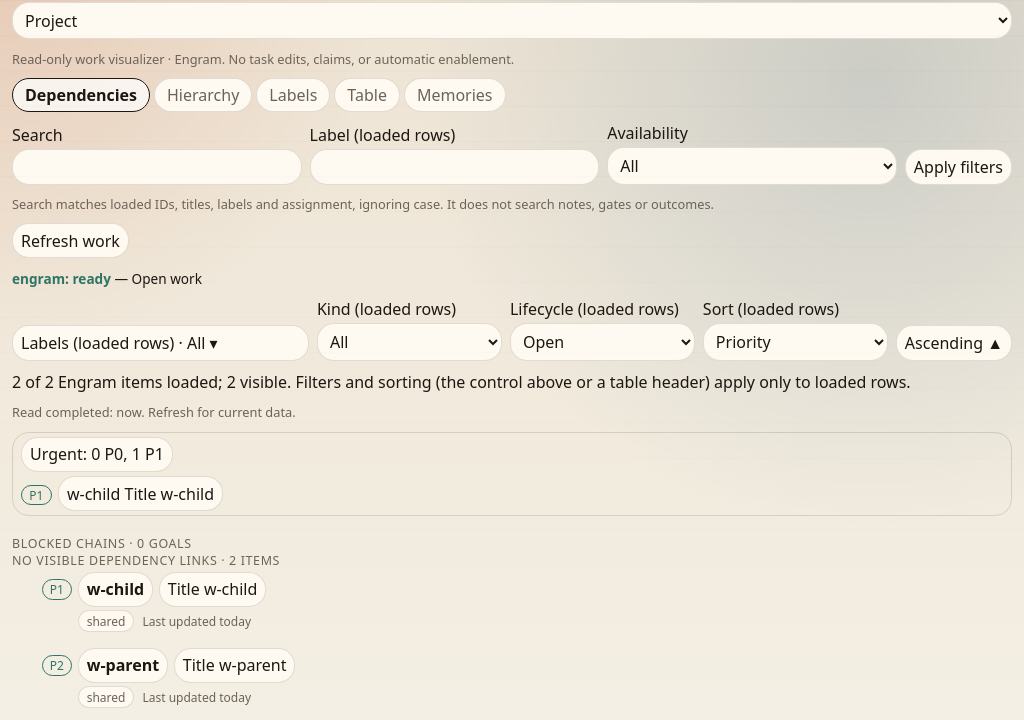
Scenario: Urgent strip reveal of hidden rows › expands a collapsed Hierarchy parent that holds the urgent item
Click the button "Hierarchy": (203, 95) [154,78,252,112]
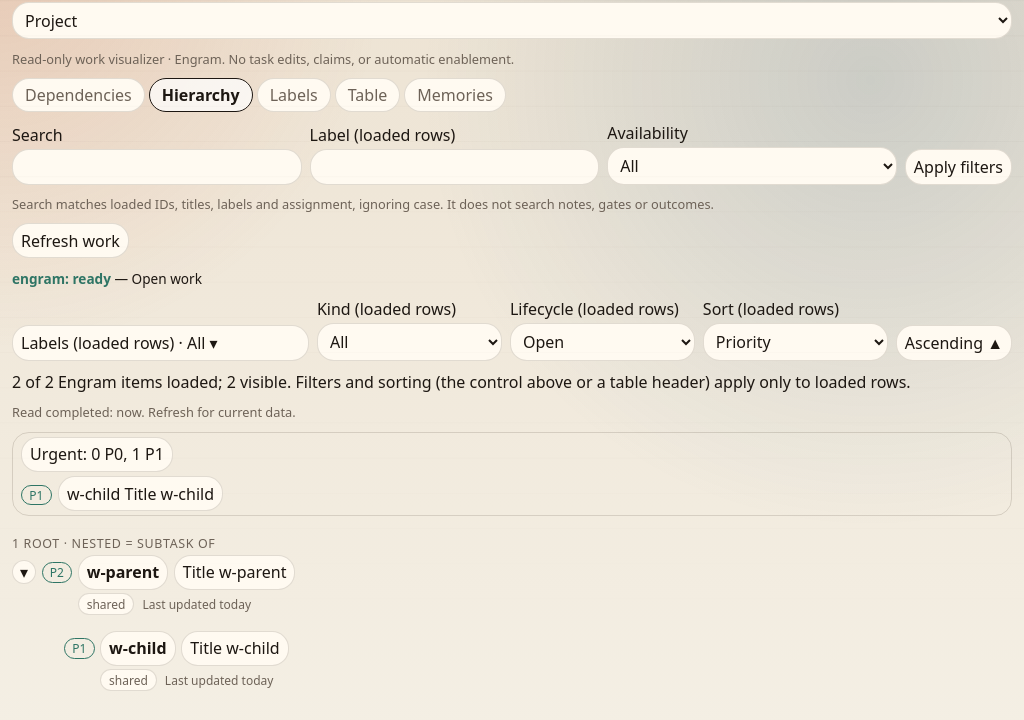
Click the button named "Collapse w-parent": (24, 572) [12,560,36,584]
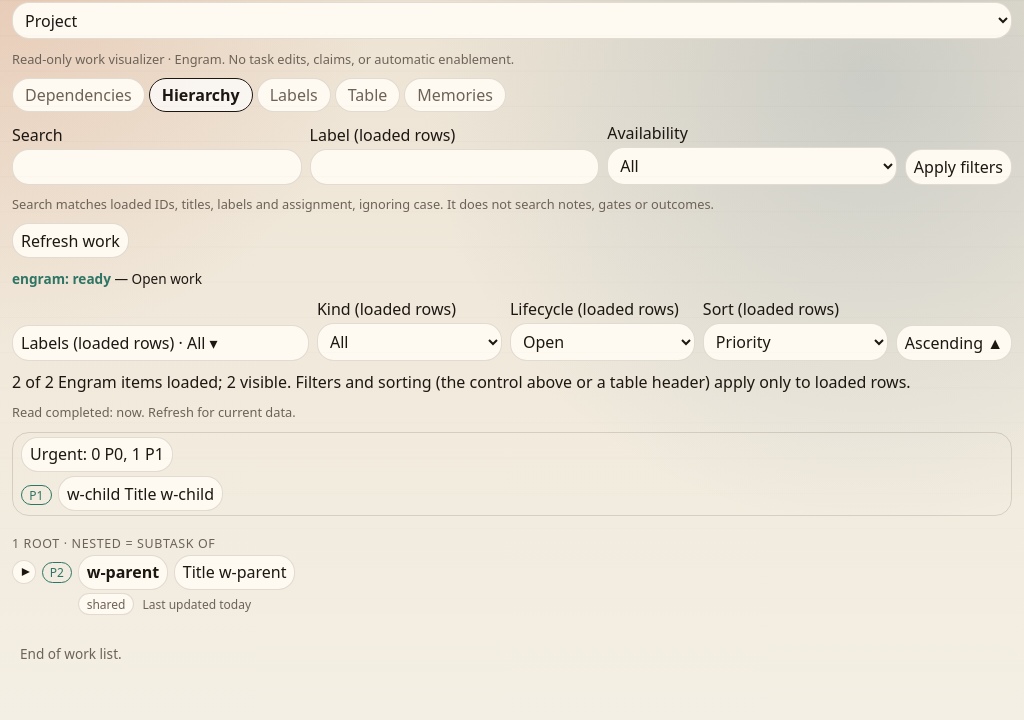
Click the button "w-child Title w-child": (140, 494) [58,476,223,511]
(page scrolled)
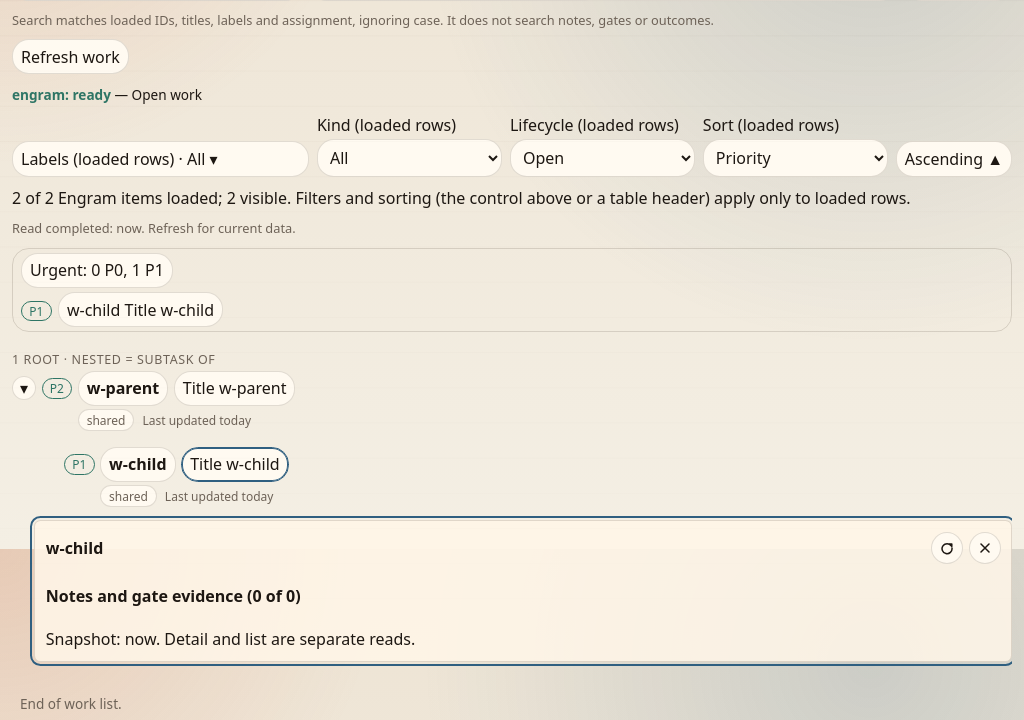
expect the element named "Work item details" is shown: met, box [34,520,1012,662]
